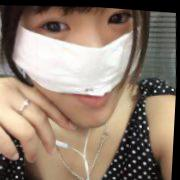WRONG: (12, 2, 146, 137)
